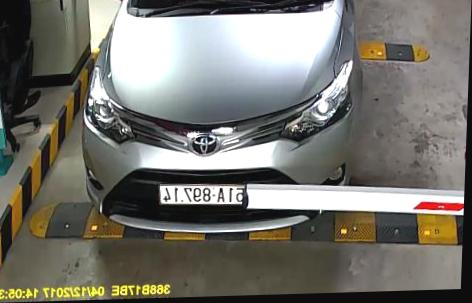License_Plate: (157, 180, 254, 209)
